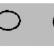no answer: (0, 8, 21, 34)
